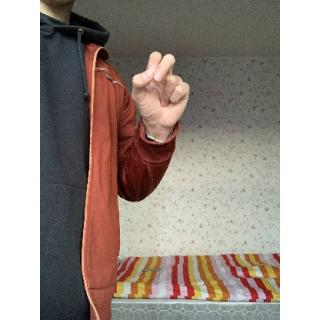QAAF: (124, 49, 194, 139)
